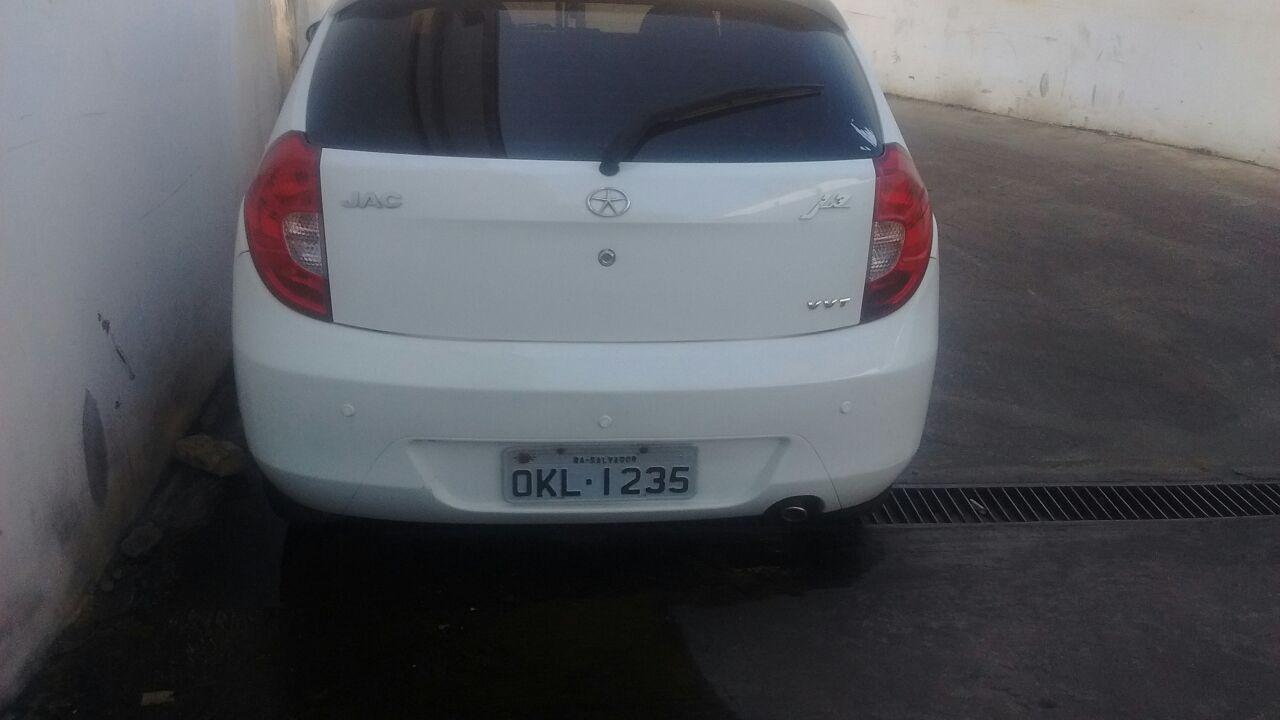placa de veiculo: (477, 428, 710, 522)
